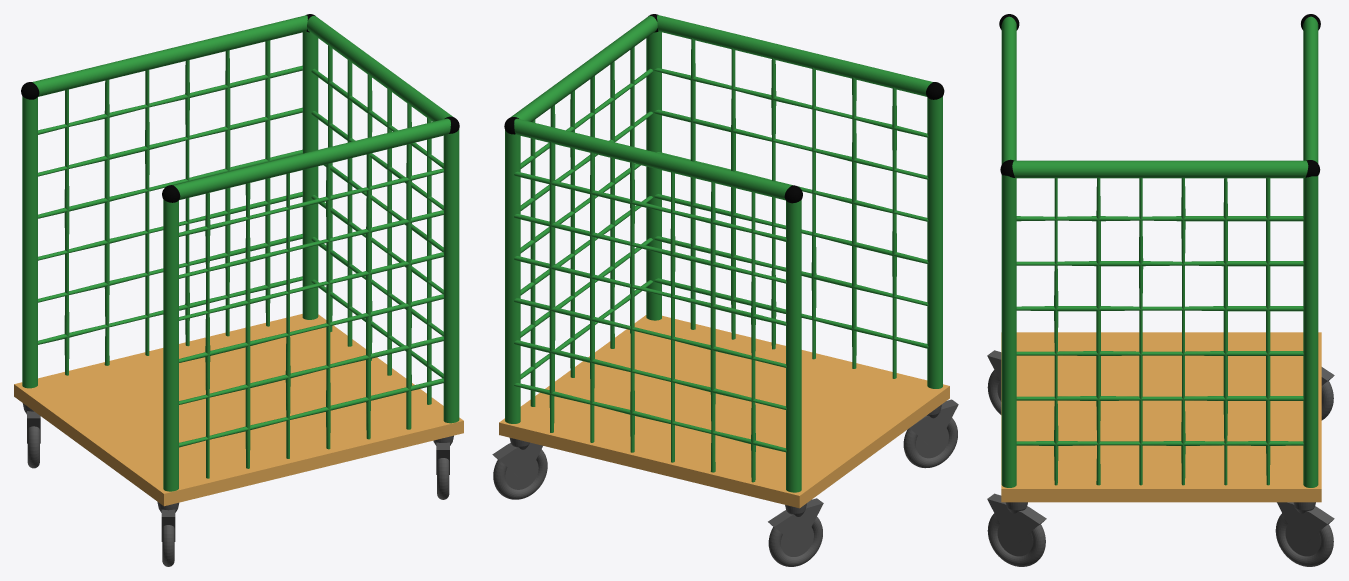
The model's file is PackageTrolleygreen.fbx.
3 views of the same model, side by side, from view 1: azimuth 30°, elevation 25°; view 2: azimuth 150°, elevation 25°; view 3: azimuth 270°, elevation 25° (orthographic). The views are drawn at different scales.
Parts seen in each view (by area): view 1: Cube, Cube.002, Plane, Plane.001, Plane.002, Cube.003, Cube.005, Cube.001; view 2: Cube, Cube.002, Plane.001, Plane, Plane.002, Cube.001, Cube.004, Cube.003; view 3: Cube, Cube.002, Plane.002, Cube.005, Cube.004, Cube.003, Cube.001.
Boxes of the visible parts, x1,y1,x2,y2 form: Cube: (14, 314, 463, 506); Cube.002: (22, 15, 459, 491); Plane: (179, 144, 443, 478); Plane.001: (38, 40, 302, 375); Plane.002: (311, 45, 443, 404); Cube.003: (157, 502, 179, 566); Cube.005: (433, 435, 453, 499); Cube.001: (22, 403, 40, 468); Cube: (499, 315, 949, 508); Cube.002: (505, 15, 942, 492); Plane.001: (514, 142, 786, 482); Plane: (654, 38, 928, 378); Plane.002: (520, 47, 653, 406); Cube.001: (768, 498, 823, 566); Cube.004: (492, 438, 547, 499); Cube.003: (903, 399, 958, 468); Cube: (1001, 332, 1321, 502); Cube.002: (1001, 16, 1318, 487); Plane.002: (1016, 178, 1303, 485); Cube.005: (987, 493, 1046, 566); Cube.004: (1275, 502, 1334, 566); Cube.003: (987, 350, 1001, 414); Cube.001: (1321, 367, 1334, 420).
Bounding box in the file's own units: 272 × 320 × 248.
